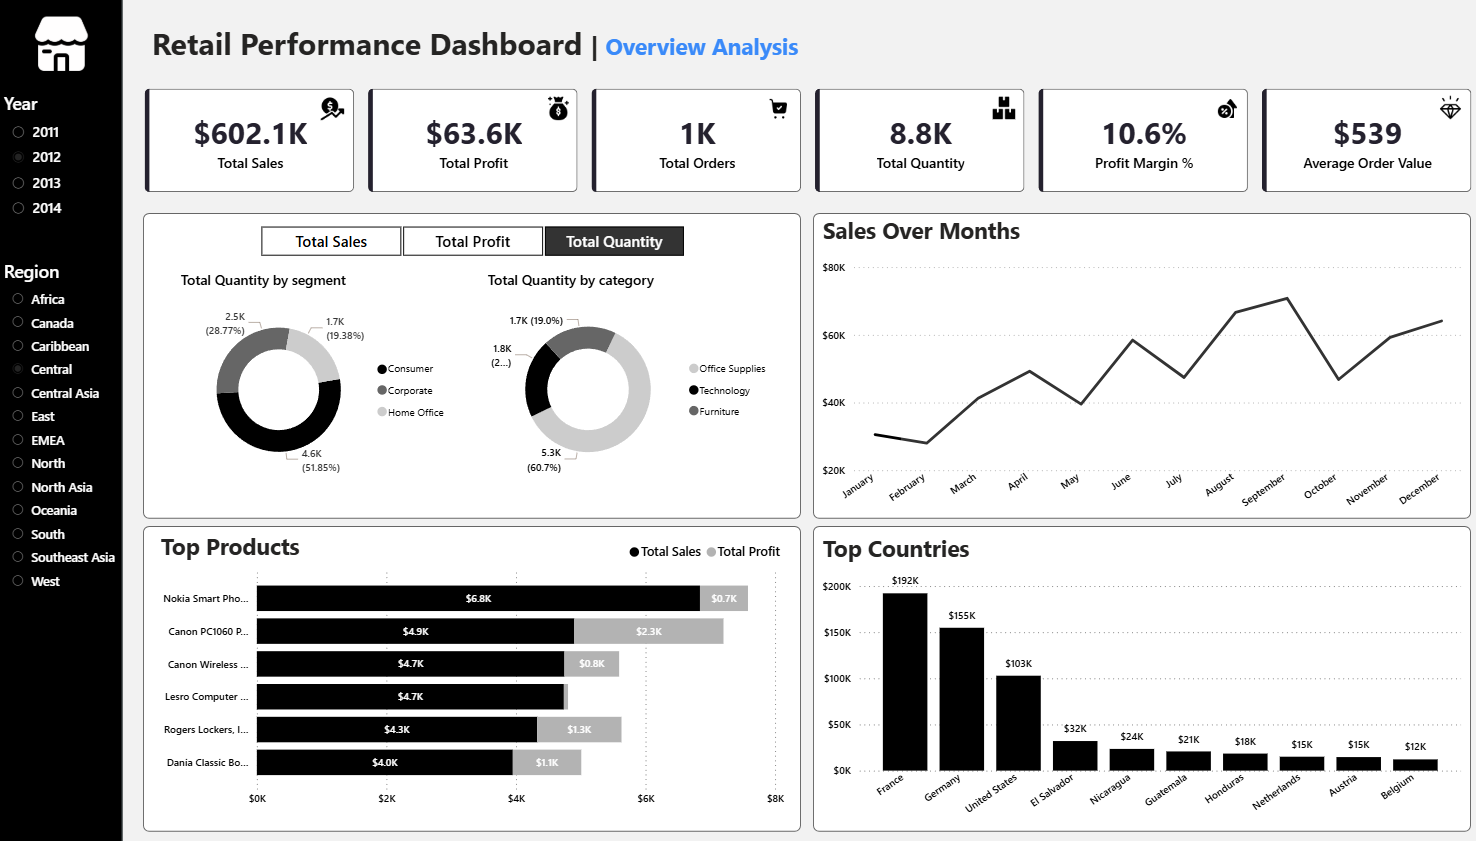

The dashboard page shown, as its layout file describes it:
{"tool":"powerbi","page":{"name":"Page 1","canvas":[1600,900],"ordinal":0},"visuals":[{"type":"shape","box":[9.7,0,131.5,900.3],"z":0,"group":"g4"},{"type":"textbox","box":[166.7,21.4,858.3,53.4],"z":0},{"type":"shape","box":[162.8,229.6,700.8,325.6],"z":0,"group":"g1"},{"type":"shape","box":[876.5,229.6,700.8,325.6],"z":0,"group":"g3"},{"type":"lineChart","fields":{"Category":["SuperStoreOrders.order_date.Variation.Date Hierarchy.Month"],"Y":["SuperStoreOrders.Total Sales"]},"box":[880.8,272.8,692.2,280.3],"z":1000,"group":"g3"},{"type":"shape","box":[876.5,563.9,700.8,325.6],"z":1000},{"type":"cardVisual","fields":{"Data":["SuperStoreOrders.Total Sales","SuperStoreOrders.Total Profit","SuperStoreOrders.Total Orders","SuperStoreOrders.Total Quantity","SuperStoreOrders.Profit Margin %","SuperStoreOrders.Average Order Value"]},"box":[159.6,92.7,1423.2,120.8],"z":2000},{"type":"textbox","box":[881.9,226.4,245.8,52.8],"z":2000,"group":"g3"},{"type":"group","id":"g1","title":"Group 1","box":[162.8,229.6,700.8,325.6],"z":3000},{"type":"slicer","fields":{"Values":["Dynamic Measure.Dynamic Measure"]},"box":[263.1,237.1,500.3,42],"z":4000,"group":"g1"},{"type":"group","id":"g2","title":"Group 2","box":[162.8,563.9,700.8,325.6],"z":4000},{"type":"textbox","box":[881.5,565.3,193.3,42.6],"z":4000,"group":"g5"},{"type":"group","id":"g3","title":"Group 3","box":[876.5,226.4,700.8,328.8],"z":5000},{"type":"donutChart","fields":{"Y":["SuperStoreOrders.Total Profit"],"Category":["SuperStoreOrders.segment"]},"box":[198.4,289.9,299.7,235],"z":5000,"group":"g1"},{"type":"shape","box":[162.8,563.9,700.8,325.6],"z":5500,"group":"g2"},{"type":"group","id":"g4","title":"Group 4","box":[9.7,0,131.5,900.3],"z":6000},{"type":"donutChart","fields":{"Y":["SuperStoreOrders.Total Profit"],"Category":["SuperStoreOrders.category"]},"box":[525.3,290.7,315.7,234.3],"z":6000,"group":"g1"},{"type":"group","id":"g5","title":"Group 5","box":[880.9,565.3,691.1,314.4],"z":7000},{"type":"image","box":[347.1,100.9,35.8,34.7],"z":8000},{"type":"barChart","fields":{"Category":["SuperStoreOrders.product_name"],"Y":["SuperStoreOrders.Total Sales","SuperStoreOrders.Total Profit"]},"box":[167.1,571.4,684,301],"z":8000,"group":"g2"},{"type":"columnChart","fields":{"Category":["SuperStoreOrders.country"],"Y":["SuperStoreOrders.Total Sales"]},"box":[880.9,599.4,691.1,280.3],"z":8000,"group":"g5"},{"type":"image","box":[34.2,11.8,83.4,75.9],"z":9000,"group":"g4"},{"type":"image","box":[587.9,100.9,34.7,34.7],"z":9000},{"type":"textbox","box":[176.8,563.9,181.1,49.6],"z":9000,"group":"g2"},{"type":"image","box":[820.1,100.9,39.1,34.7],"z":9001},{"type":"image","box":[1063.1,100.9,33.6,34.7],"z":9002},{"type":"image","box":[1300.6,100.9,34.7,35.8],"z":9003},{"type":"image","box":[1538.2,99.8,34.7,35.8],"z":9004},{"type":"slicer","title":"Year","fields":{"Values":["SuperStoreOrders.year"]},"box":[9.8,99.8,131.3,144.3],"z":10000,"group":"g4"},{"type":"slicer","title":"Region","fields":{"Values":["SuperStoreOrders.region"]},"box":[9.7,279.2,131.5,366.6],"z":11000,"group":"g4"}]}

Visuals, with their boxes on the page's 1600x900 design canvas (x1, y1, x2, y2). These are canvas units, not pixel positions in the 1476x841 screenshot, which may show the page scaled, cropped or inside an application window:
shape: locate(10, 0, 141, 900)
textbox: locate(167, 21, 1025, 75)
shape: locate(163, 230, 864, 555)
shape: locate(876, 230, 1577, 555)
lineChart - SuperStoreOrders.order_date.Variation.Date Hierarchy.Month x SuperStoreOrders.Total Sales: locate(881, 273, 1573, 553)
shape: locate(876, 564, 1577, 890)
cardVisual - SuperStoreOrders.Total Sales x SuperStoreOrders.Total Profit: locate(160, 93, 1583, 214)
textbox: locate(882, 226, 1128, 279)
"Group 1" group: locate(163, 230, 864, 555)
slicer - Dynamic Measure.Dynamic Measure: locate(263, 237, 763, 279)
"Group 2" group: locate(163, 564, 864, 890)
textbox: locate(882, 565, 1075, 608)
"Group 3" group: locate(876, 226, 1577, 555)
donutChart - SuperStoreOrders.Total Profit x SuperStoreOrders.segment: locate(198, 290, 498, 525)
shape: locate(163, 564, 864, 890)
"Group 4" group: locate(10, 0, 141, 900)
donutChart - SuperStoreOrders.Total Profit x SuperStoreOrders.category: locate(525, 291, 841, 525)
"Group 5" group: locate(881, 565, 1572, 880)
image: locate(347, 101, 383, 136)
barChart - SuperStoreOrders.product_name x SuperStoreOrders.Total Sales: locate(167, 571, 851, 872)
columnChart - SuperStoreOrders.country x SuperStoreOrders.Total Sales: locate(881, 599, 1572, 880)
image: locate(34, 12, 118, 88)
image: locate(588, 101, 623, 136)
textbox: locate(177, 564, 358, 614)
image: locate(820, 101, 859, 136)
image: locate(1063, 101, 1097, 136)
image: locate(1301, 101, 1335, 137)
image: locate(1538, 100, 1573, 136)
"Year" slicer: locate(10, 100, 141, 244)
"Region" slicer: locate(10, 279, 141, 646)
